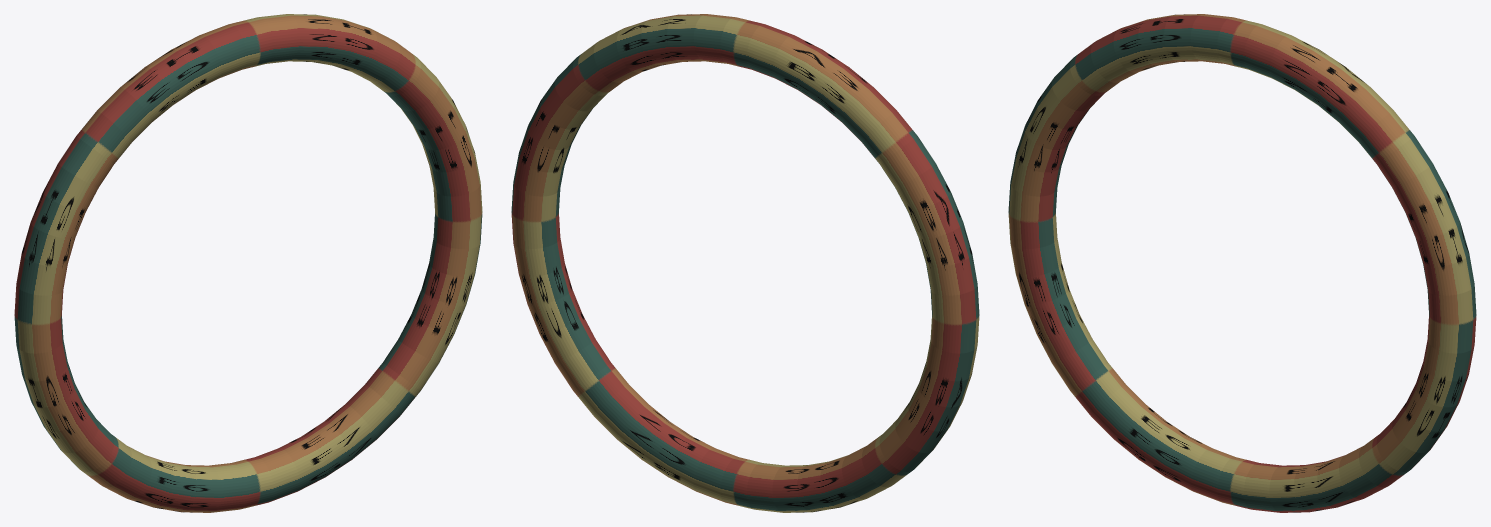
The model's file is texture_torus_R28_r3.glb.
3 views of the same model, side by side, from view 1: azimuth 30°, elevation 25°; view 2: azimuth 150°, elevation 25°; view 3: azimuth 330°, elevation 25° (orthographic).
Visible parts, largest first — view 1: world; view 2: world; view 3: world.
Boxes of the visible parts, bbox=[...] form: world: bbox=[14, 14, 482, 512]; world: bbox=[511, 14, 979, 512]; world: bbox=[1008, 14, 1476, 512].
Size of the model in its own units: 31.47 by 31.4 by 2.79.
Materials: 1 (1 with a texture image).
